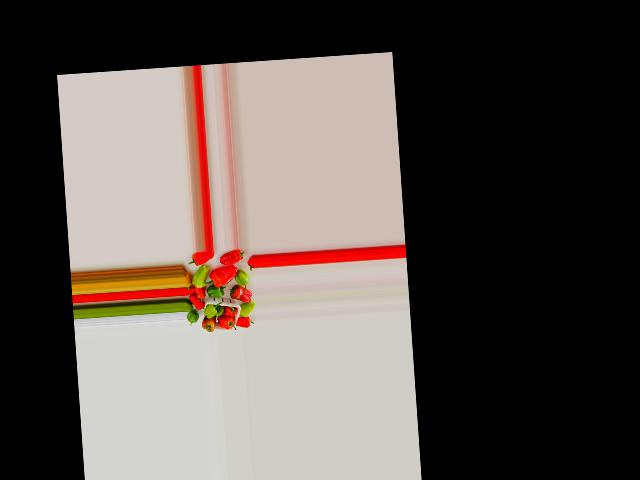bell_pepper: (187, 250, 211, 268)
